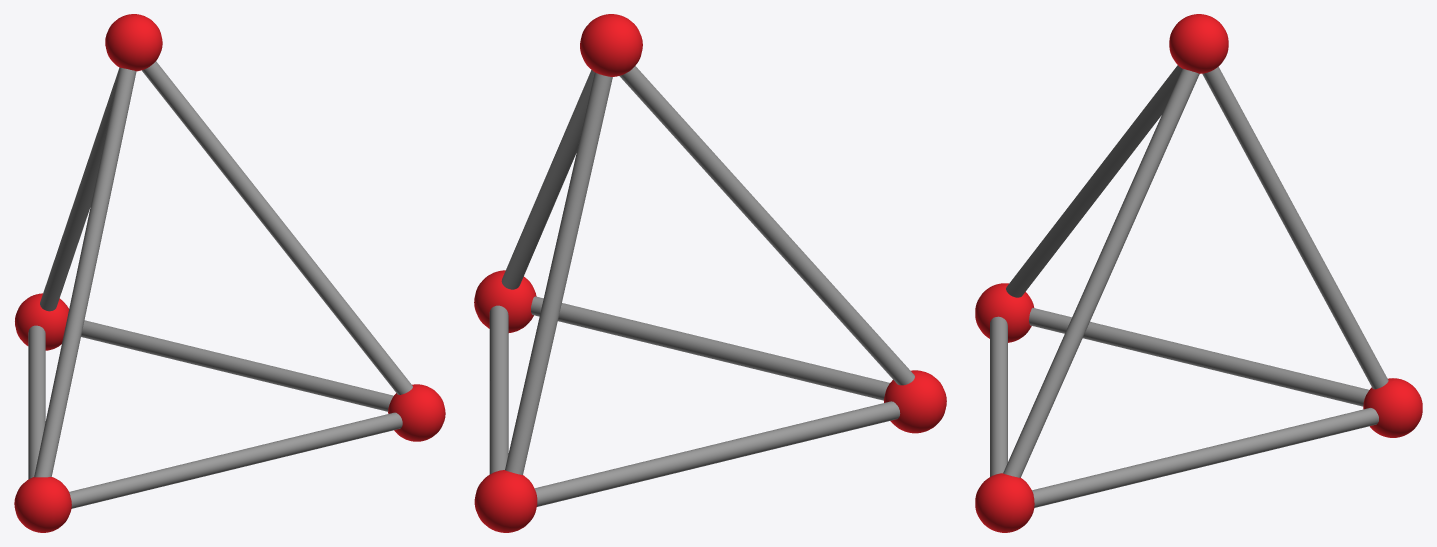
3 renders of one model, left to right at view 1: azimuth 30°, elevation 25°; view 2: azimuth 150°, elevation 25°; view 3: azimuth 270°, elevation 25°, orthographic. The views are drawn at different scales.
Parts seen in each view (by area): view 1: Цилиндр_Node (×6), Сферы_Node (×4); view 2: Цилиндр_Node (×6), Сферы_Node (×4); view 3: Цилиндр_Node (×6), Сферы_Node (×4).
Part boxes in pixels (x1,y1,x2,y2): Цилиндр_Node (×6): [28, 61, 412, 508]; Сферы_Node (×4): [14, 14, 445, 532]; Цилиндр_Node (×6): [489, 66, 914, 506]; Сферы_Node (×4): [474, 14, 946, 532]; Цилиндр_Node (×6): [990, 65, 1388, 507]; Сферы_Node (×4): [975, 14, 1422, 532].
Size of the model in its own units: 3.35 by 3.02 by 2.94.
Materials: 8 (1 with a texture image).
